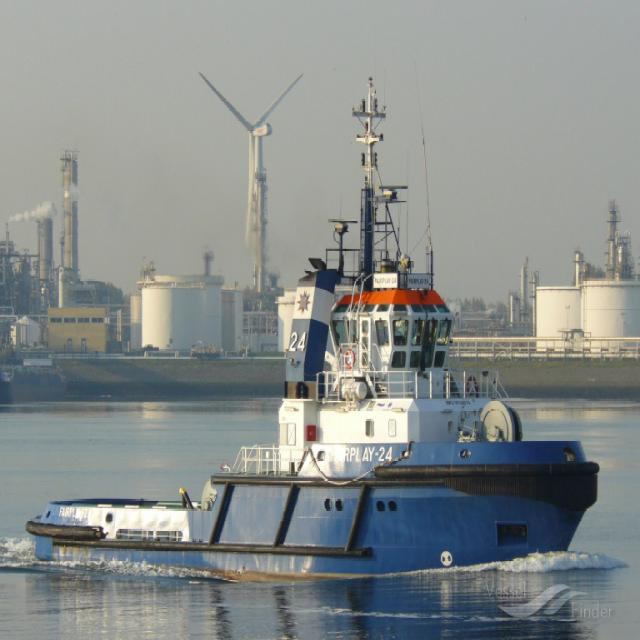tugboat: (29, 86, 599, 579)
